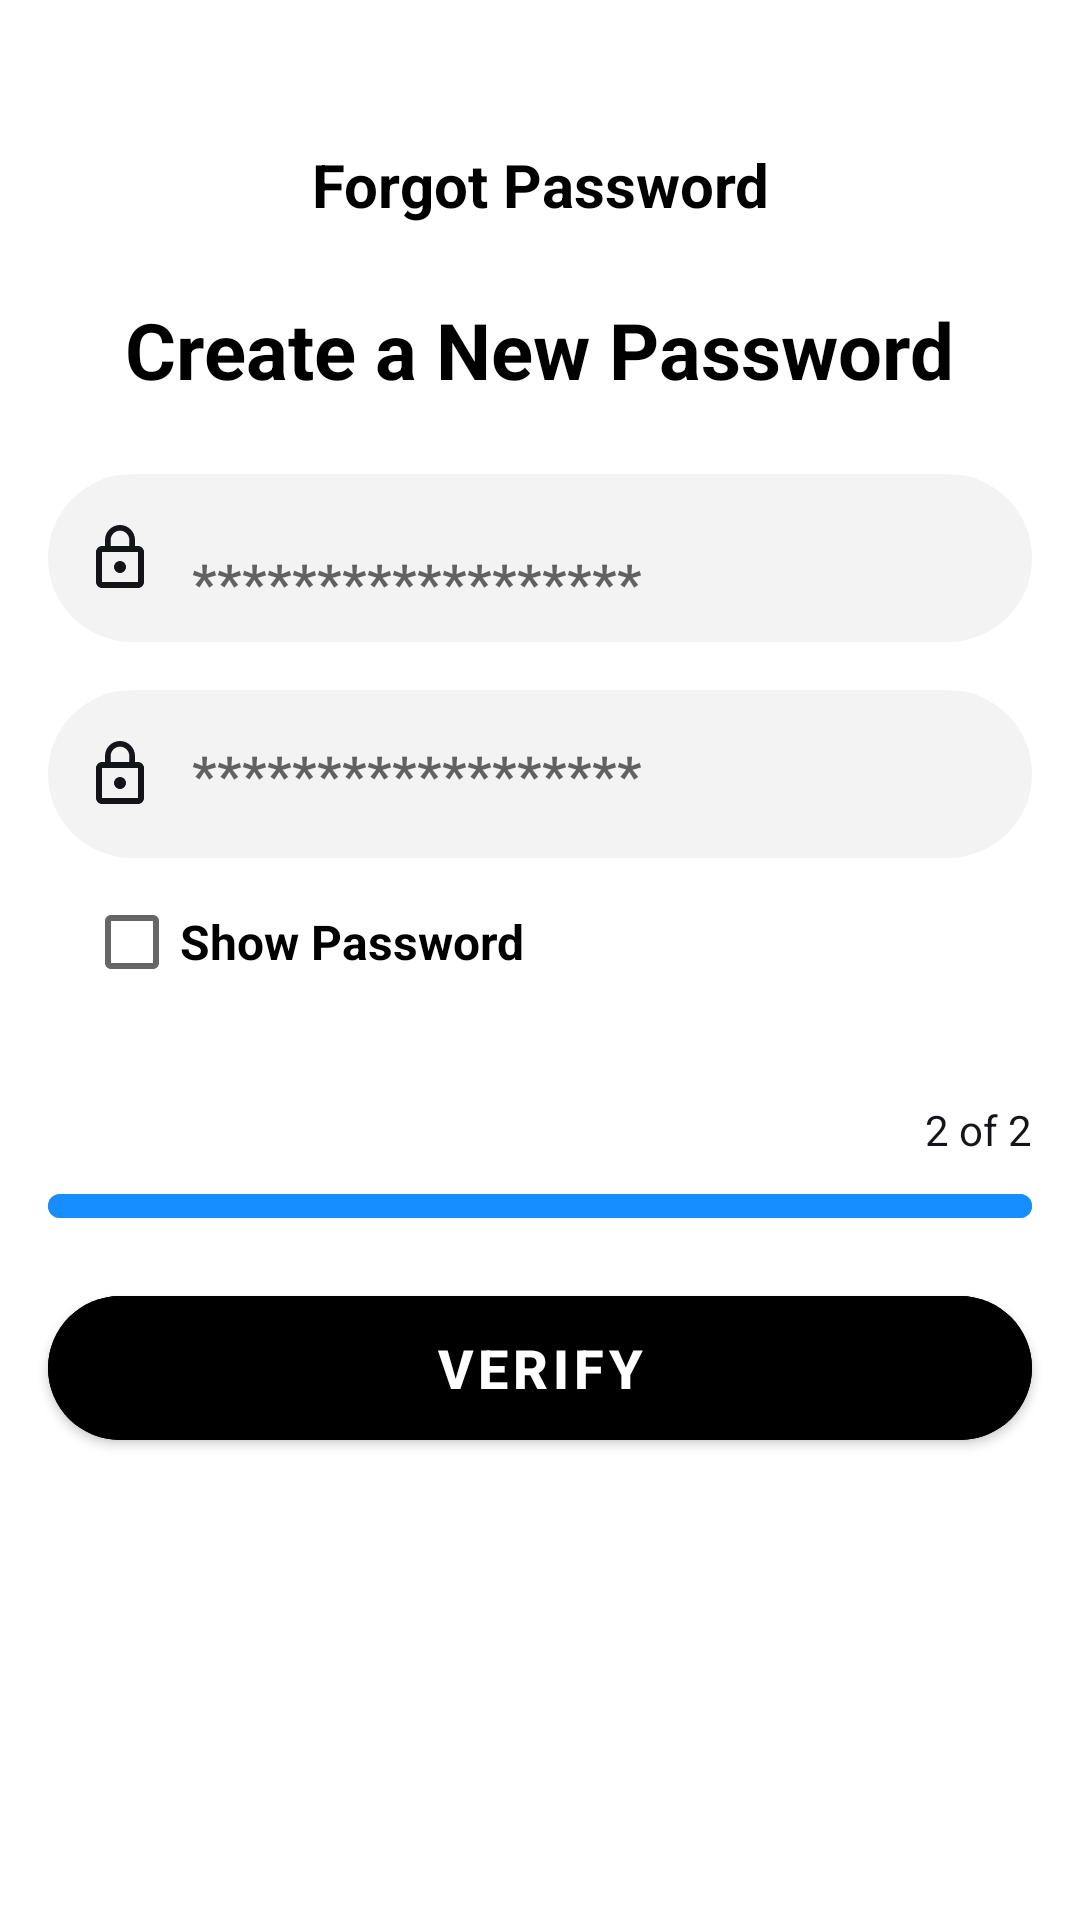

Locate icon controls on the screen. Image size 1080px×1920px, boxes as (x1, y1, x2, y2).
lock: (96, 525, 144, 588), (96, 741, 144, 804)
